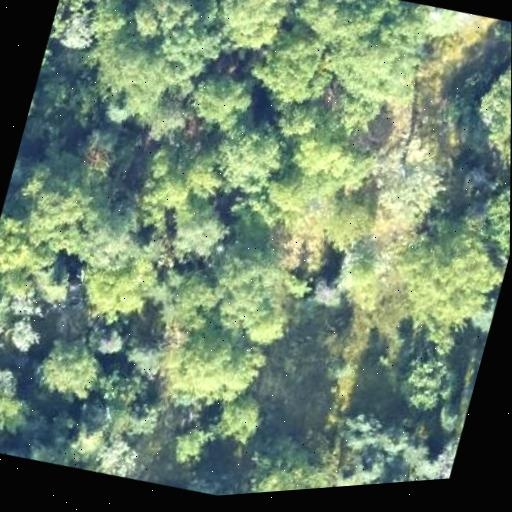tree-top: (374, 191, 510, 342), (5, 142, 120, 267), (154, 307, 263, 418), (316, 16, 425, 124), (358, 130, 455, 244), (113, 0, 241, 81), (451, 29, 512, 192), (247, 12, 344, 112), (74, 233, 169, 335), (204, 237, 298, 339), (145, 250, 236, 335), (25, 324, 111, 410), (275, 0, 398, 56), (211, 115, 291, 198), (181, 56, 257, 140), (276, 107, 354, 187), (218, 0, 308, 69), (165, 194, 235, 269), (397, 345, 462, 419), (0, 354, 34, 457), (46, 0, 106, 57), (141, 162, 199, 220), (0, 209, 38, 289), (27, 251, 78, 307), (61, 413, 109, 463), (118, 393, 162, 447), (216, 394, 263, 444), (164, 419, 209, 471), (416, 2, 467, 46), (5, 314, 47, 358), (354, 443, 390, 483), (56, 0, 112, 17), (362, 470, 409, 485), (493, 17, 512, 52)
